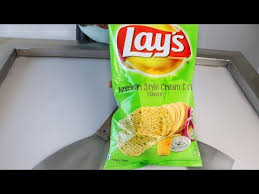lays-med: (106, 23, 202, 169)
